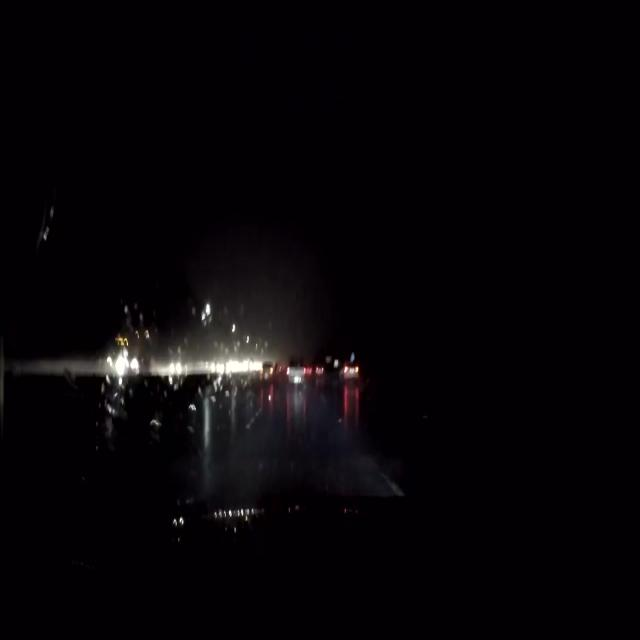Car: (286, 356, 305, 389), (339, 356, 358, 384)
